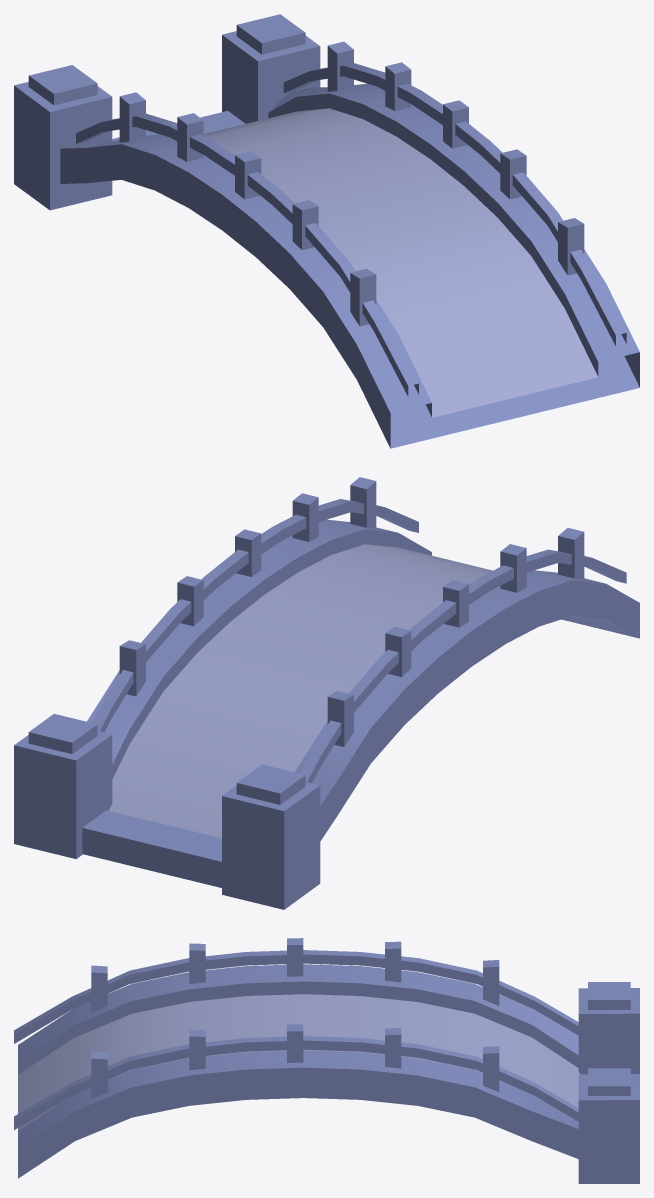
Rendered from bridge_1e_2.fbx.
3 views of the same model, one above another, from view 1: azimuth 30°, elevation 25°; view 2: azimuth 150°, elevation 25°; view 3: azimuth 270°, elevation 25° (orthographic). The views are drawn at different scales.
Visible parts, largest first — view 1: bridge_1e_2; view 2: bridge_1e_2; view 3: bridge_1e_2.
Boxes of the visible parts, left/top/right/bottom form: bridge_1e_2: left=14, top=14, right=639, bottom=448; bridge_1e_2: left=14, top=477, right=639, bottom=909; bridge_1e_2: left=14, top=938, right=639, bottom=1183.
Size of the model in its own units: 10.4 by 6.19 by 24.55.
